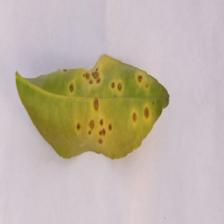canker: (60, 66, 142, 152)
